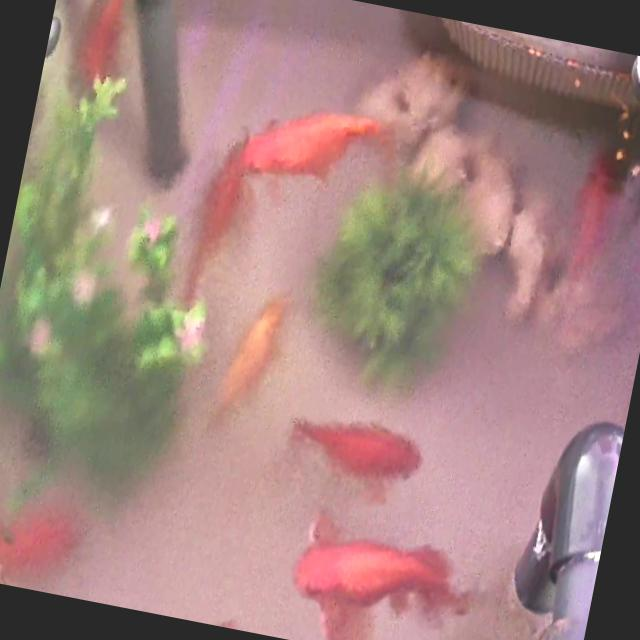fish: (286, 511, 470, 640), (176, 125, 262, 319), (229, 90, 380, 198), (555, 137, 631, 305), (206, 287, 288, 434), (288, 406, 420, 492), (0, 481, 90, 598), (70, 0, 137, 101)
